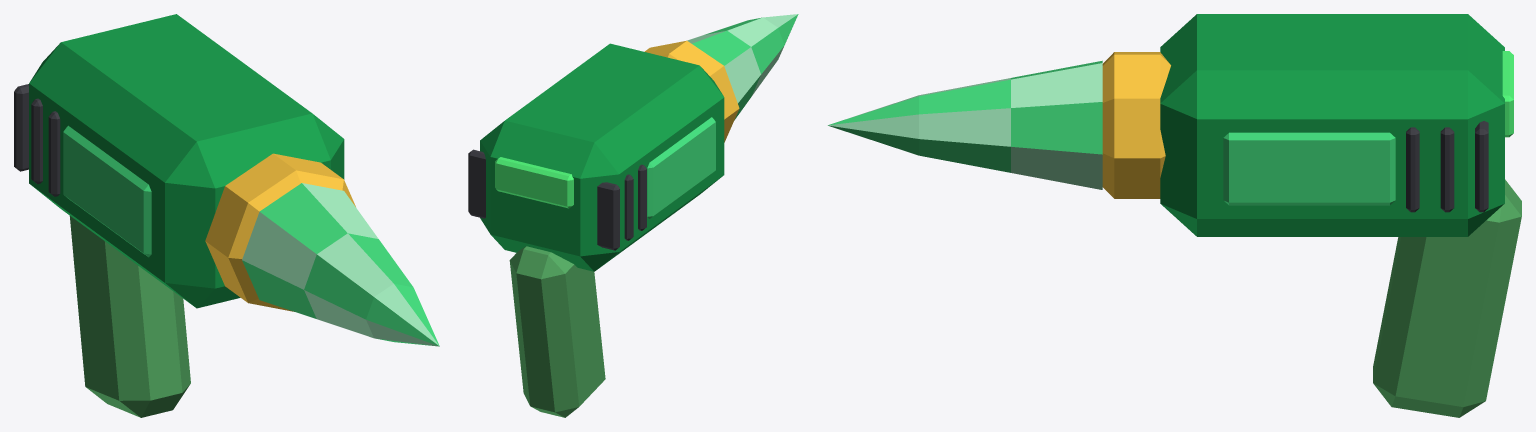
File: EmeraldDrill.fbx
The picture shows the model from 3 angles, left to right: view 1: azimuth 30°, elevation 25°; view 2: azimuth 150°, elevation 25°; view 3: azimuth 270°, elevation 25°; orthographic projection. The views are drawn at different scales.
Visible parts, largest first — view 1: EmeraldDrill; view 2: EmeraldDrill; view 3: EmeraldDrill.
Boxes of the visible parts, <box> form: EmeraldDrill: <box>14,14,439,417</box>; EmeraldDrill: <box>468,14,798,417</box>; EmeraldDrill: <box>827,14,1521,417</box>.
Bounding box in the file's own units: 0.97 × 1.77 × 3.02.
Materials: 1 (1 with a texture image).
